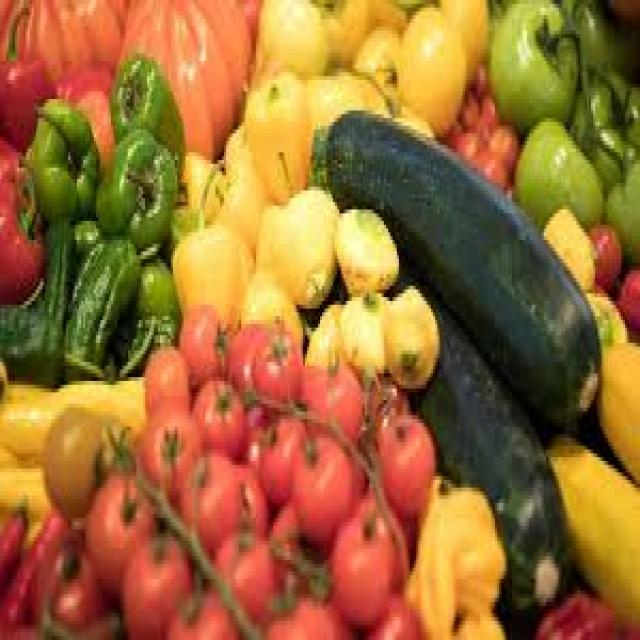organic waste: (310, 107, 596, 434), (388, 248, 570, 617), (113, 0, 256, 152), (546, 446, 638, 636), (406, 469, 504, 636), (0, 373, 139, 461), (64, 229, 139, 381), (489, 0, 576, 126), (0, 0, 124, 88), (92, 125, 175, 248), (168, 214, 252, 332), (512, 114, 599, 225), (43, 404, 130, 510), (85, 469, 156, 594), (328, 488, 391, 628), (26, 95, 100, 214), (34, 530, 115, 636), (106, 50, 184, 160), (111, 252, 181, 374), (0, 503, 64, 636), (243, 69, 310, 194), (122, 522, 194, 636), (271, 183, 337, 305), (401, 4, 463, 133), (209, 526, 284, 632), (572, 68, 638, 186), (0, 7, 53, 148), (371, 408, 433, 514), (248, 0, 322, 88), (561, 0, 638, 84), (177, 446, 235, 556), (382, 278, 437, 385), (335, 202, 399, 293), (0, 297, 68, 381), (136, 404, 198, 495), (308, 61, 390, 129), (538, 194, 595, 290), (222, 457, 271, 568), (0, 175, 43, 297), (298, 362, 362, 442), (337, 0, 403, 76), (190, 373, 247, 461), (358, 484, 406, 586), (256, 412, 305, 511), (239, 270, 299, 346), (288, 564, 350, 636), (268, 496, 314, 590), (352, 23, 403, 107), (211, 164, 265, 240), (337, 294, 388, 374), (0, 446, 53, 522), (138, 339, 188, 419), (439, 0, 486, 84), (177, 301, 224, 385), (168, 575, 232, 636), (601, 160, 638, 259), (252, 324, 298, 400), (226, 316, 263, 404), (533, 594, 610, 636), (362, 377, 408, 442), (179, 152, 222, 221), (0, 499, 26, 613), (586, 213, 620, 297), (42, 214, 72, 308), (77, 88, 113, 164), (237, 397, 273, 472), (56, 57, 113, 103), (367, 591, 422, 636), (582, 282, 625, 339), (305, 301, 339, 362), (322, 0, 349, 72), (612, 263, 638, 335), (480, 118, 516, 168), (471, 141, 510, 187), (452, 602, 502, 636), (264, 594, 303, 636), (222, 118, 247, 183), (70, 213, 104, 259), (256, 202, 273, 282), (392, 99, 427, 130), (107, 419, 130, 465), (0, 137, 26, 175), (457, 84, 480, 126), (450, 126, 478, 156), (478, 92, 497, 130), (608, 0, 638, 23), (472, 57, 488, 88), (438, 114, 454, 145), (614, 617, 638, 636)
